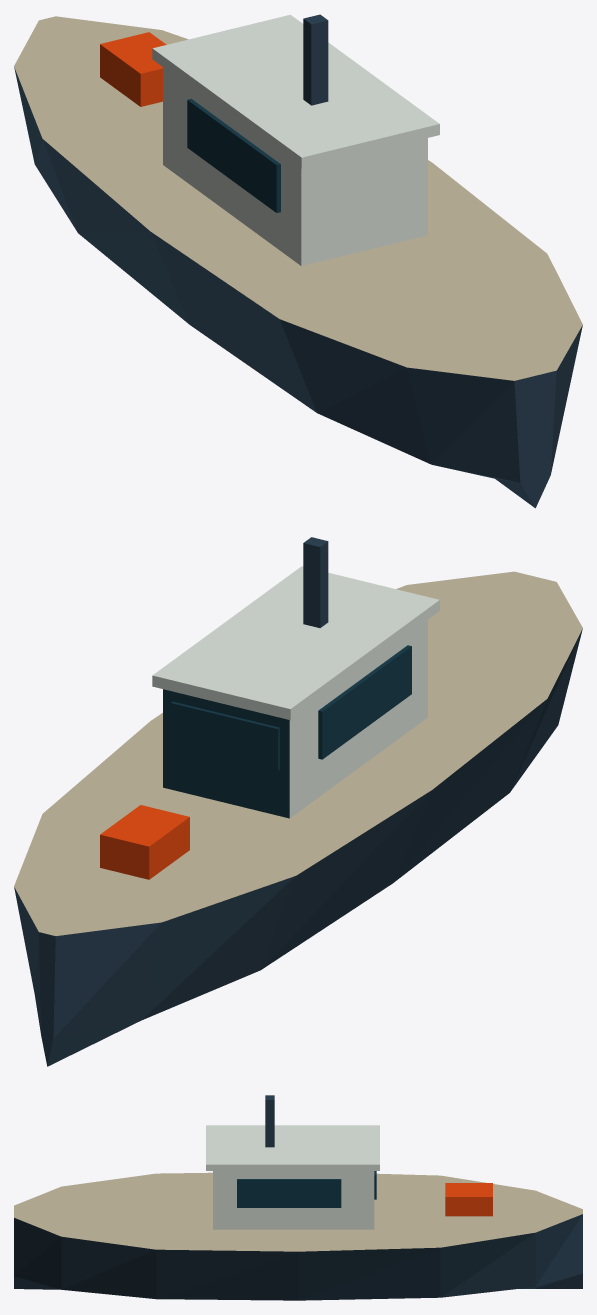
File: test-vessel.obj
3 views of the same model, one above another, from view 1: azimuth 30°, elevation 25°; view 2: azimuth 150°, elevation 25°; view 3: azimuth 270°, elevation 25° (orthographic). The views are drawn at different scales.
Size of the model in its own units: 4 by 4.45 by 12.
